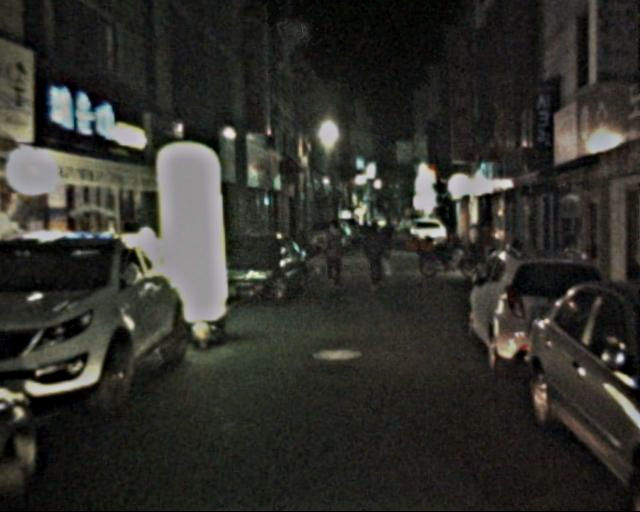person: (316, 219, 347, 295), (359, 220, 388, 290)
